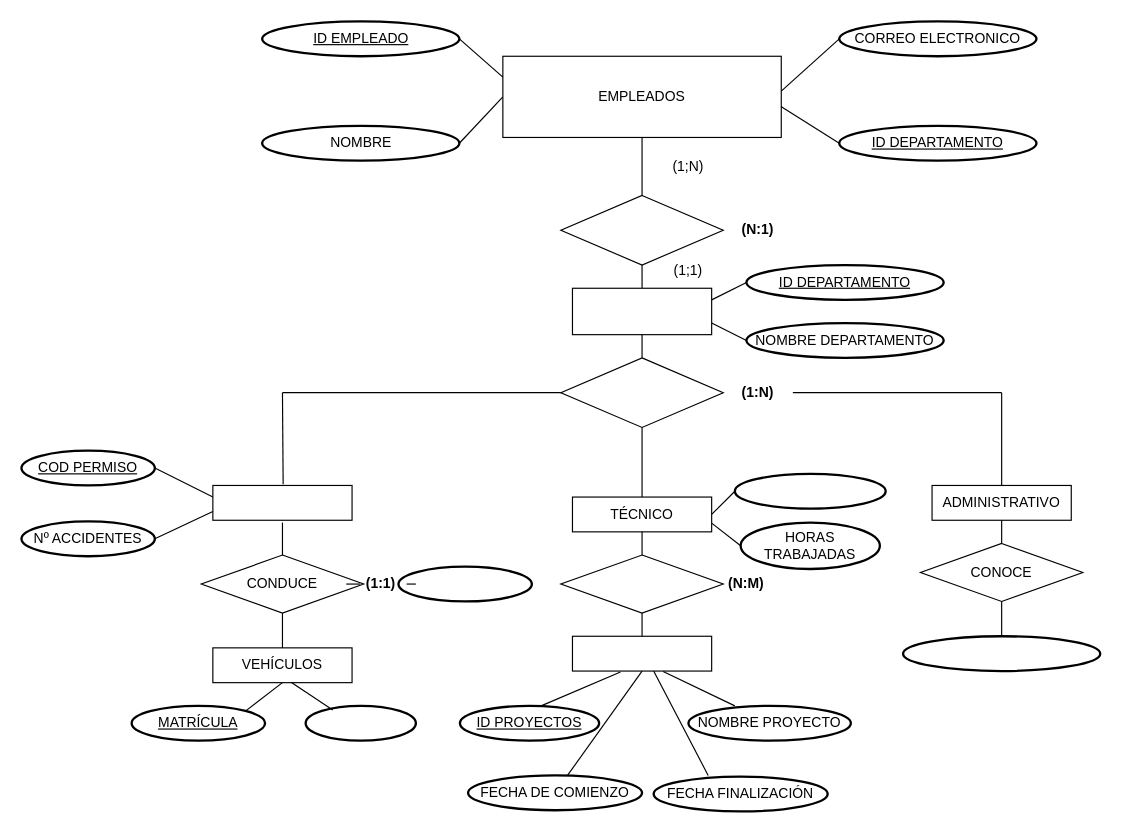
This 1121x832 diagram has some shape labels left out. Here are the shapes that lost their labels. From the top down, the centre of each, then its label:
the point at 641,229: TRABAJAN EN
the point at 641,311: DEPARTAMENTOS
the point at 641,392: TIPOS
the point at 282,502: CONDUCTOR
the point at 809,490: ESPECIALIDADES
the point at 464,583: FECHA
the point at 641,583: TRABAJA EN
the point at 641,653: PROYECTOS
the point at 1001,653: IDIOMAS
the point at 360,722: MARCA
